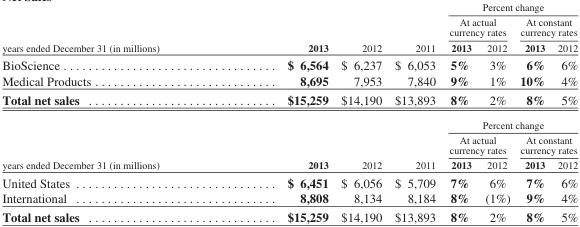table: (1, 1, 577, 223)
table column: (1, 1, 222, 223), (222, 1, 334, 223), (387, 1, 441, 223), (334, 1, 387, 223), (477, 1, 514, 223), (441, 1, 477, 223), (514, 1, 550, 223), (550, 1, 577, 223)
table column header: (1, 1, 577, 55)
table row: (1, 14, 577, 39), (1, 131, 577, 156), (1, 89, 577, 112), (1, 112, 577, 131), (1, 189, 577, 207), (1, 55, 577, 72), (1, 72, 577, 89), (1, 172, 577, 189), (1, 39, 577, 55), (1, 156, 577, 172), (1, 207, 577, 223), (1, 1, 577, 14)
table spanning cell: (1, 1, 222, 55), (222, 1, 334, 55), (387, 1, 441, 55), (334, 1, 387, 55), (441, 112, 577, 131), (441, 14, 514, 39), (441, 131, 514, 156), (441, 1, 577, 14), (514, 14, 577, 39), (514, 131, 577, 156)
